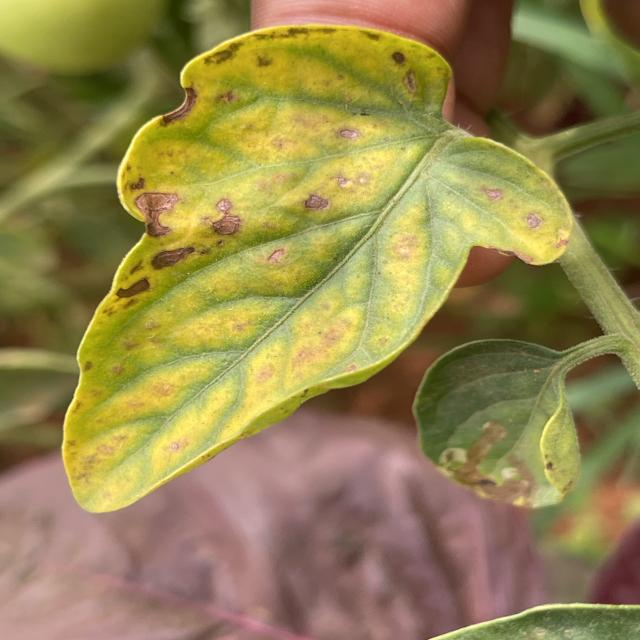tomato_early blight: (59, 19, 576, 516), (413, 338, 587, 512)
